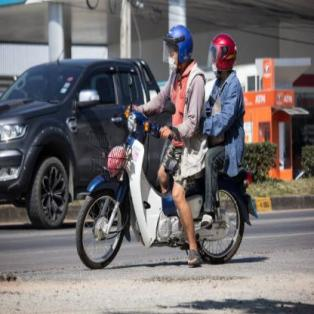Motocicleta: (76, 108, 250, 266)
